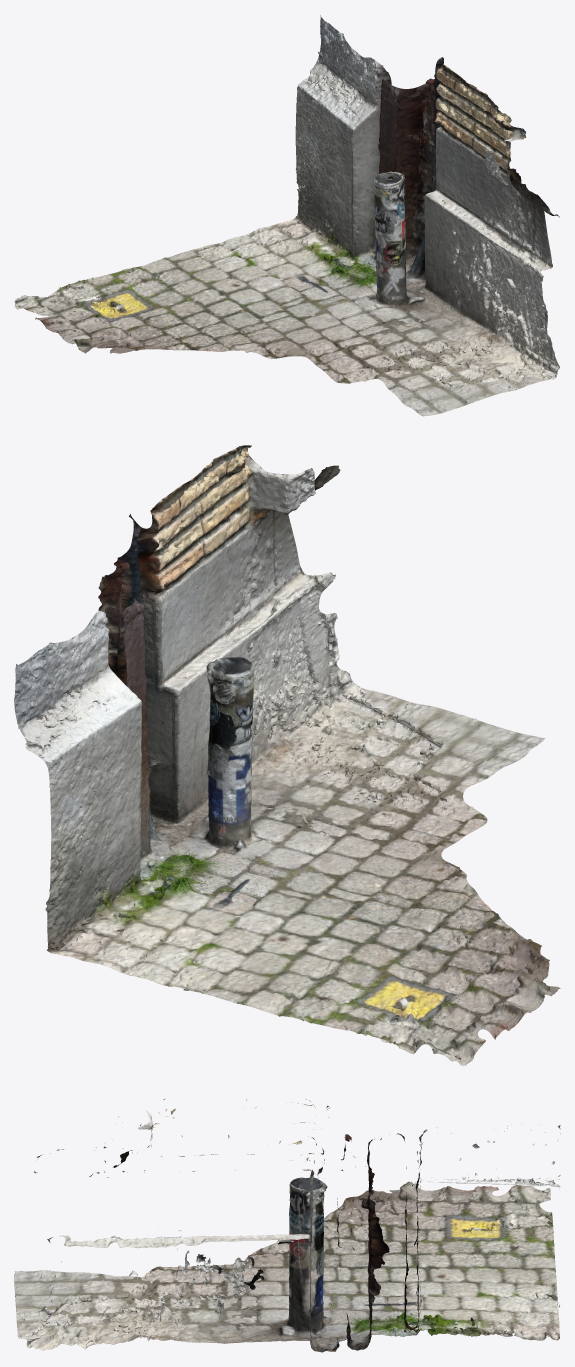
File: detail-facade-namur.glb
The picture shows the model from 3 angles, top to bottom: view 1: azimuth 30°, elevation 25°; view 2: azimuth 150°, elevation 25°; view 3: azimuth 270°, elevation 25°; orthographic projection. The views are drawn at different scales.
Bounding box in the file's own units: 1.39 × 0.9441 × 1.68.
1 material, 1 textured.
